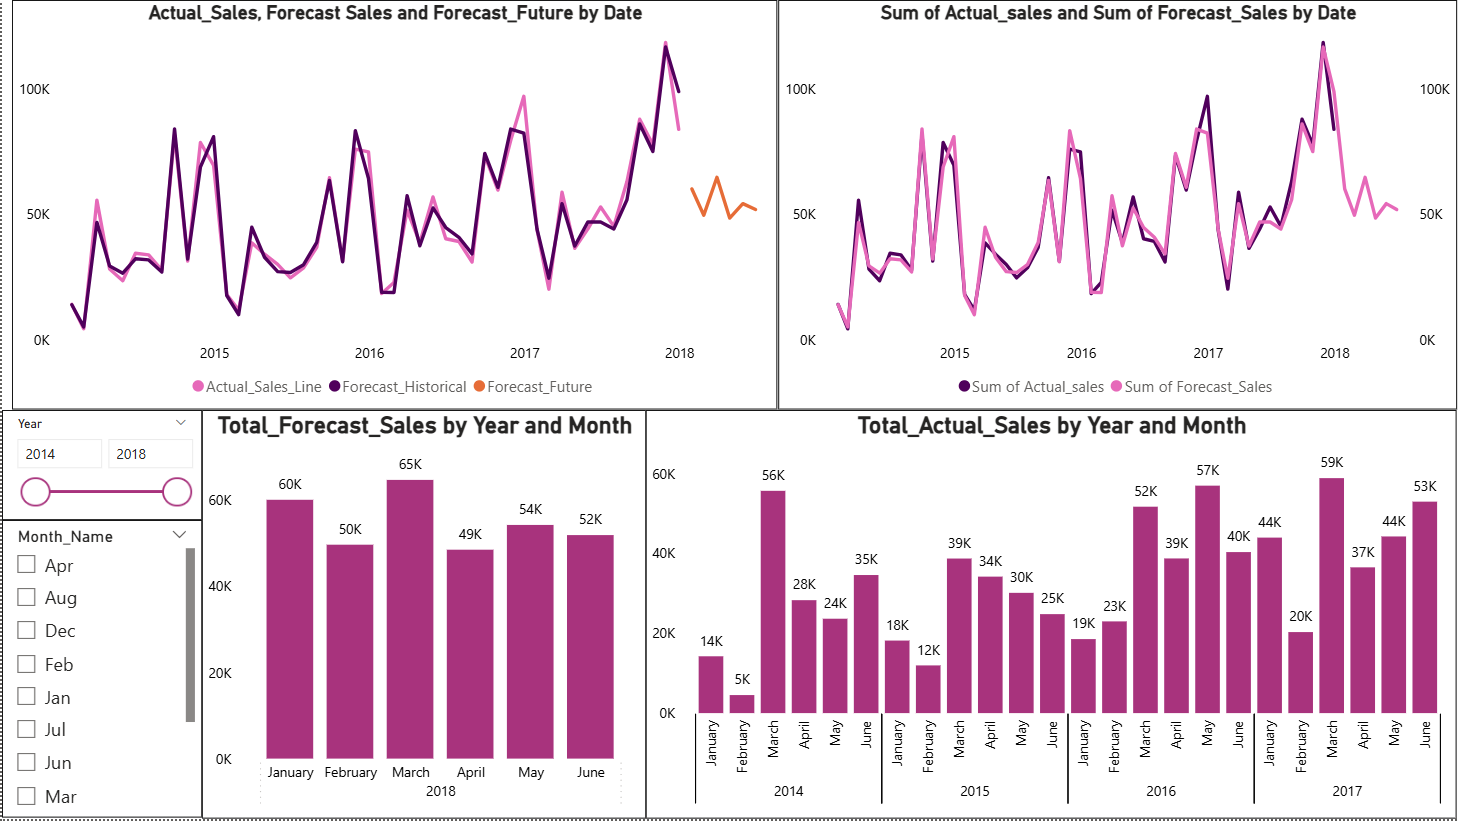

This screenshot's page, from the dashboard's own definition file:
{"tool":"powerbi","page":{"name":"Sales trend line","canvas":[1280,720],"ordinal":1},"visuals":[{"type":"lineChart","title":"Actual_Sales, Forecast Sales and Forecast_Future by Date","fields":{"Category":["sales_forecast_powerbi.Date.Variation.Date Hierarchy.Year"],"Y":["sales_forecast_powerbi.Actual_Sales_Line","sales_forecast_powerbi.Forecast_Historical","sales_forecast_powerbi.Forecast_Future"]},"box":[9.3,0,673.1,359.8],"z":0},{"type":"lineChart","fields":{"Category":["sales_forecast_powerbi.Date.Variation.Date Hierarchy.Year"],"Y":["Sum(sales_forecast_powerbi.Actual_sales)"],"Y2":["Sum(sales_forecast_powerbi.Forecast_Sales)"]},"box":[682.4,0,597.1,359.8],"z":1000},{"type":"clusteredColumnChart","fields":{"Category":["sales_forecast_powerbi.Year","sales_forecast_powerbi.YearMonth.Variation.Date Hierarchy.Month"],"Y":["sales_forecast_powerbi.Total_Forecast_Sales"]},"box":[175.6,360.4,390.7,358.9],"z":2000},{"type":"clusteredColumnChart","fields":{"Category":["sales_forecast_powerbi.Year","sales_forecast_powerbi.YearMonth.Variation.Date Hierarchy.Month"],"Y":["sales_forecast_powerbi.Total_Actual_Sales"]},"box":[566.3,360.4,713.2,358.9],"z":3000},{"type":"slicer","fields":{"Values":["sales_forecast_powerbi.YearMonth.Variation.Date Hierarchy.Year"]},"box":[0,360.4,175.6,96.9],"z":4000},{"type":"slicer","fields":{"Values":["sales_forecast_powerbi.Month_Name"]},"box":[0,457.3,175.6,262],"z":5000}]}

Visuals, with their boxes in screenshot pixels (x1, y1, x2, y2), scaled from the page's 1280x720 canvas onto the 1458x821 screenshot:
"Actual_Sales, Forecast Sales and Forecast_Future by Date" lineChart: bbox=[11, 0, 777, 410]
lineChart - sales_forecast_powerbi.Date.Variation.Date Hierarchy.Year x Sum(sales_forecast_powerbi.Actual_sales): bbox=[777, 0, 1457, 410]
clusteredColumnChart - sales_forecast_powerbi.Year x sales_forecast_powerbi.YearMonth.Variation.Date Hierarchy.Month: bbox=[200, 411, 645, 820]
clusteredColumnChart - sales_forecast_powerbi.Year x sales_forecast_powerbi.YearMonth.Variation.Date Hierarchy.Month: bbox=[645, 411, 1457, 820]
slicer - sales_forecast_powerbi.YearMonth.Variation.Date Hierarchy.Year: bbox=[0, 411, 200, 521]
slicer - sales_forecast_powerbi.Month_Name: bbox=[0, 521, 200, 820]
